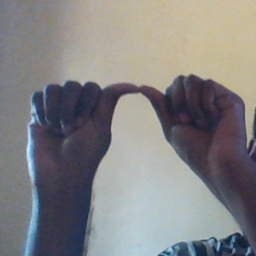A: (30, 73, 248, 186)
